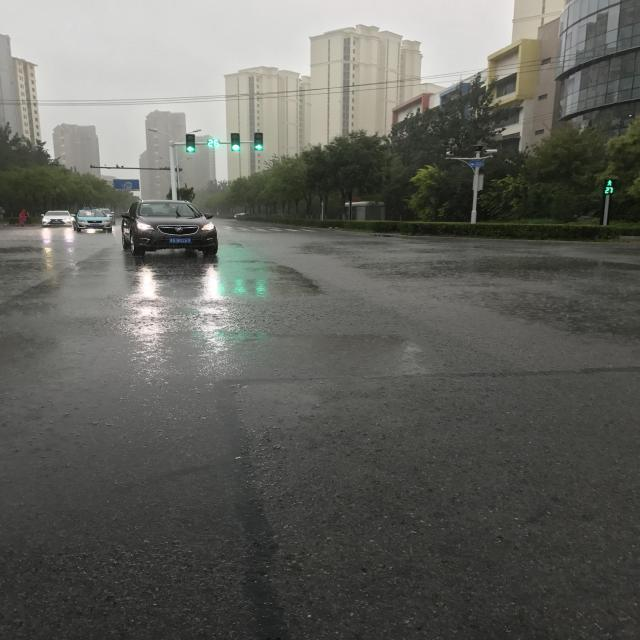car: (198, 422, 257, 518), (210, 532, 233, 565), (209, 566, 228, 598)
